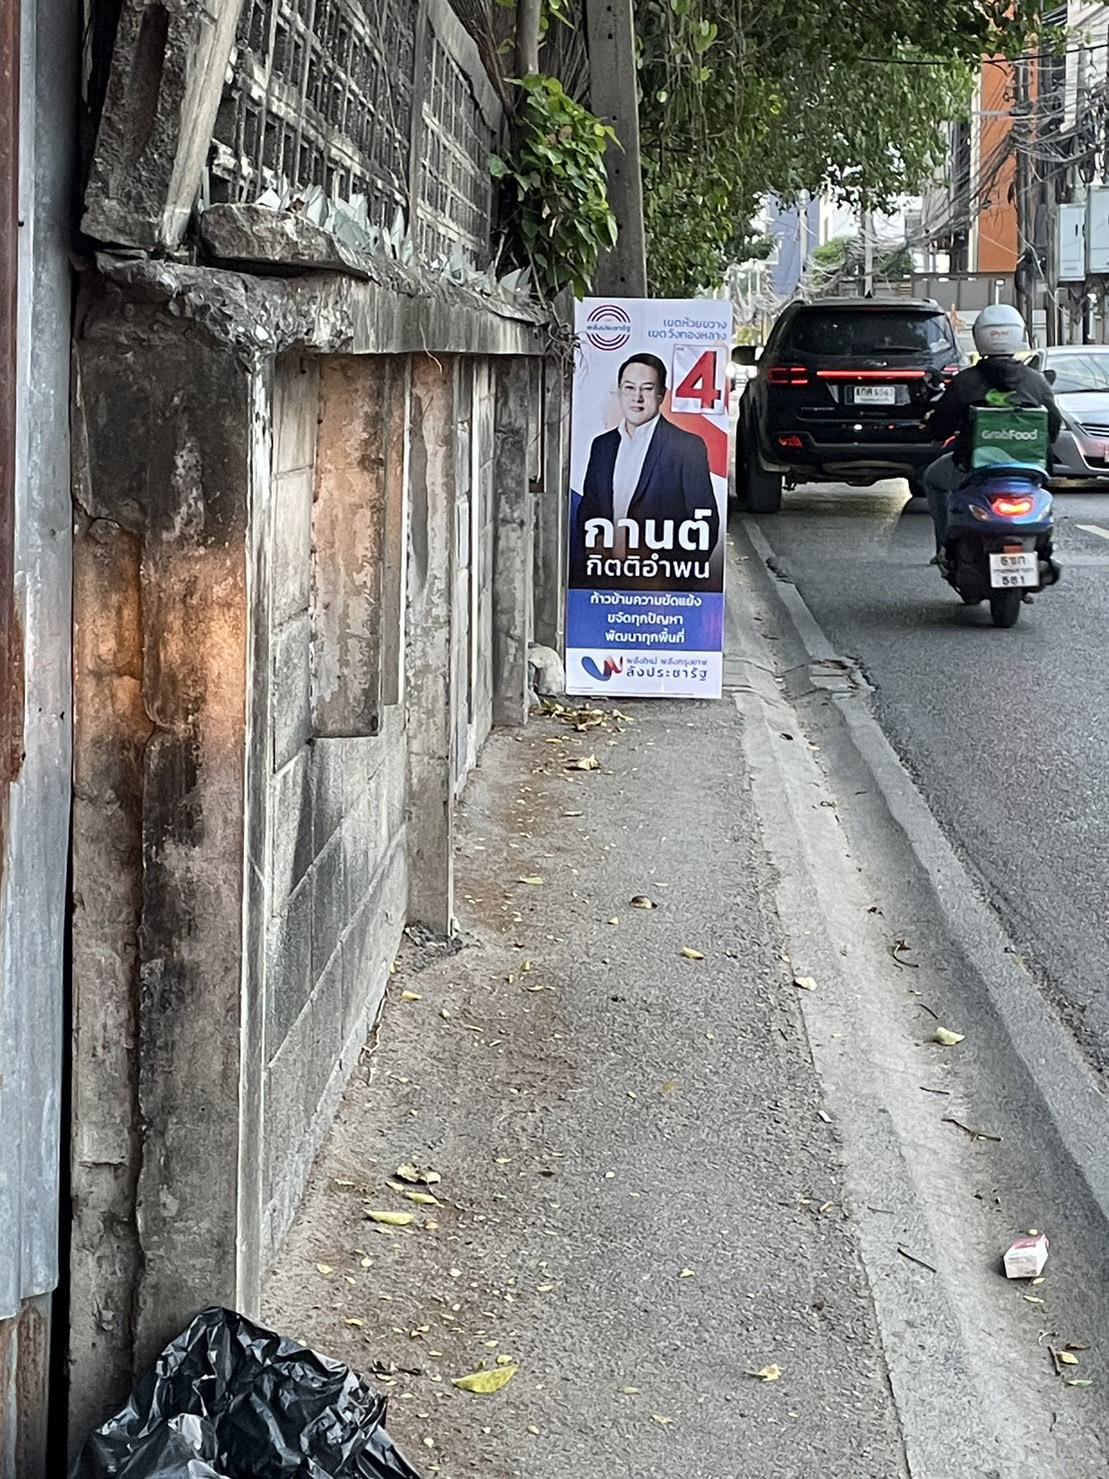Banner: (564, 293, 728, 705)
